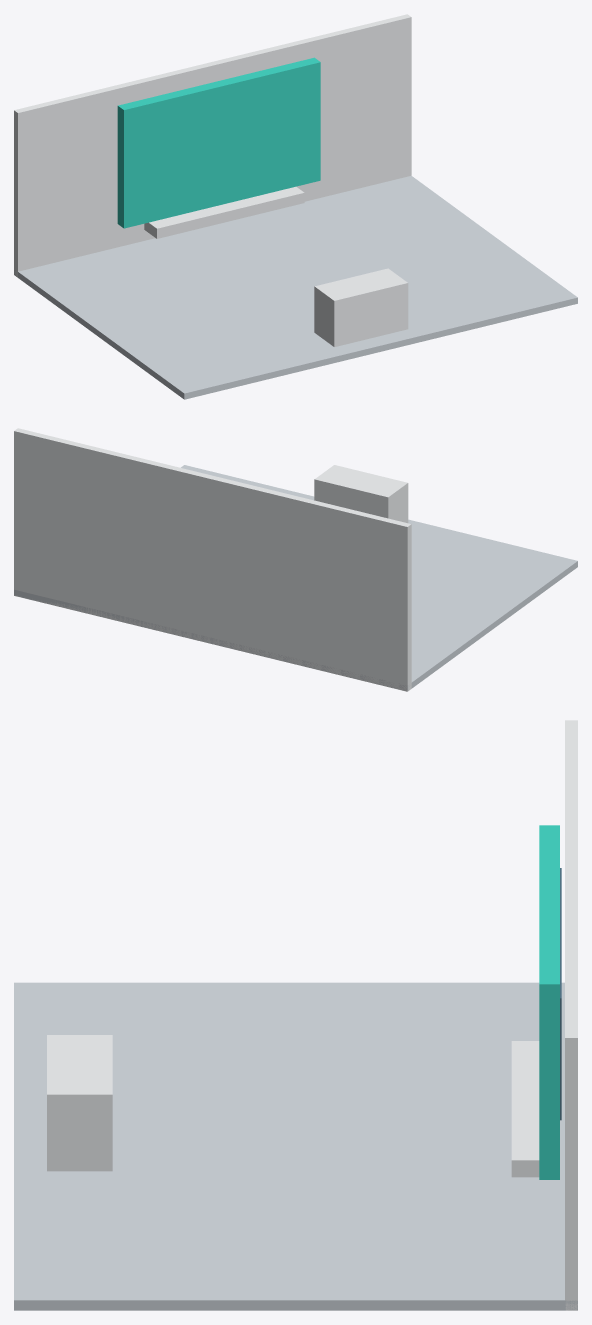
3 views of the same model, one above another, from view 1: azimuth 30°, elevation 25°; view 2: azimuth 150°, elevation 25°; view 3: azimuth 270°, elevation 25° (orthographic). The views are drawn at different scales.
Parts seen in each view (by area): view 1: Exhibition Booth Concept; view 2: Exhibition Booth Concept; view 3: Exhibition Booth Concept.
Boxes of the visible parts, x1,y1,x2,y2 form: Exhibition Booth Concept: [14, 14, 577, 399]; Exhibition Booth Concept: [14, 428, 577, 691]; Exhibition Booth Concept: [14, 720, 577, 1310].
Size of the model in its own units: 8 by 3.2 by 6.
